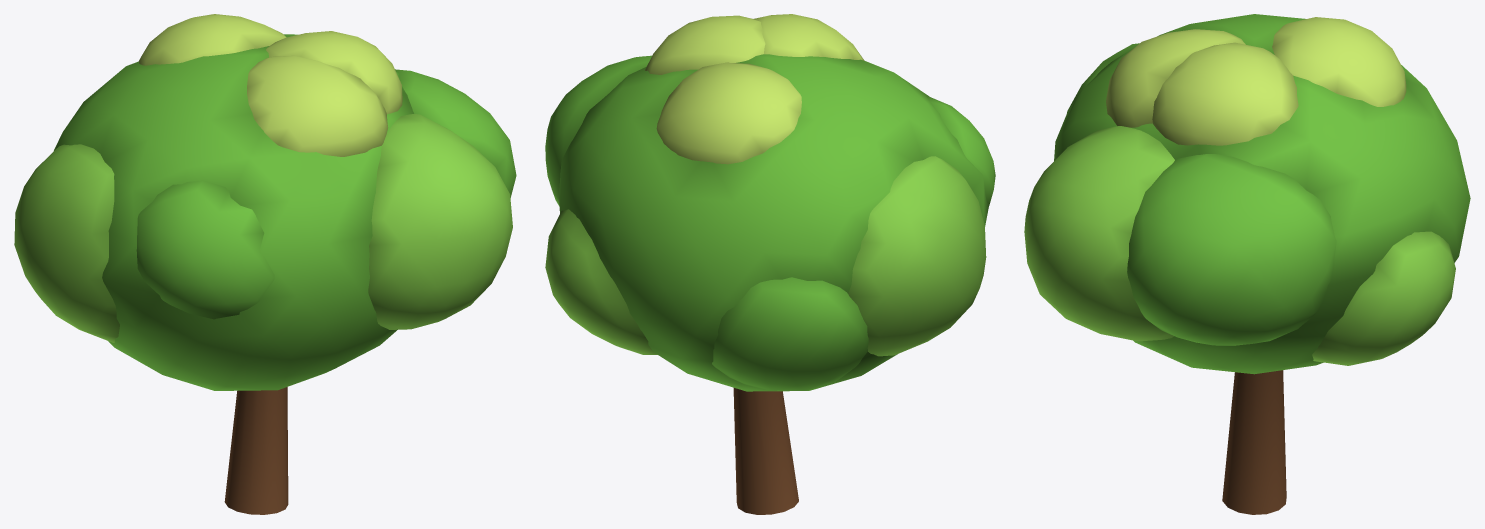
The model's file is vl_tree3.glb.
3 renders of one model, left to right at view 1: azimuth 30°, elevation 25°; view 2: azimuth 150°, elevation 25°; view 3: azimuth 270°, elevation 25°, orthographic. The views are drawn at different scales.
Parts seen in each view (by area): view 1: tree.002; view 2: tree.002; view 3: tree.002.
Boxes of the visible parts, x1,y1,x2,y2 form: tree.002: (14, 14, 516, 514); tree.002: (545, 14, 995, 514); tree.002: (1024, 14, 1470, 514).
Bounding box in the file's own units: 3.88 × 3.84 × 3.28.
